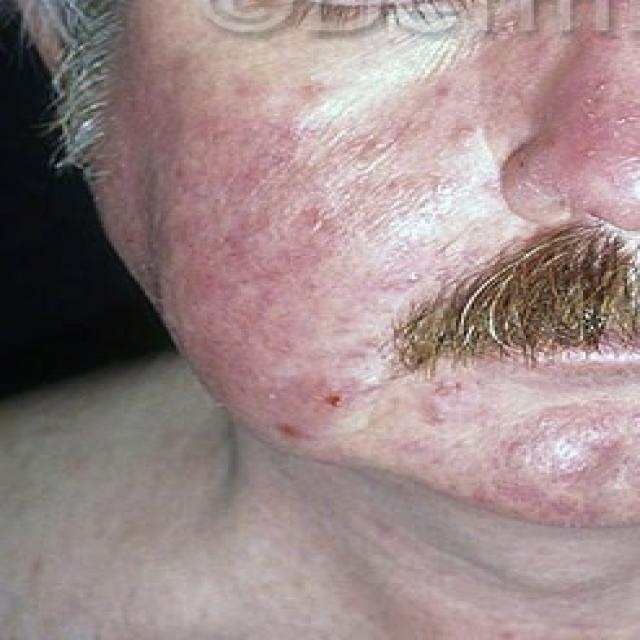Rosacea: (151, 136, 321, 364)
